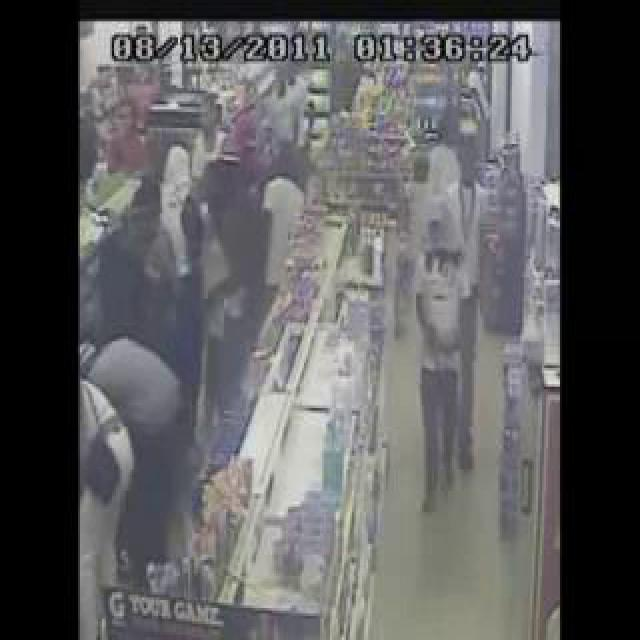burglary: (80, 87, 489, 640)
